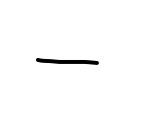minus: (37, 53, 98, 66)
